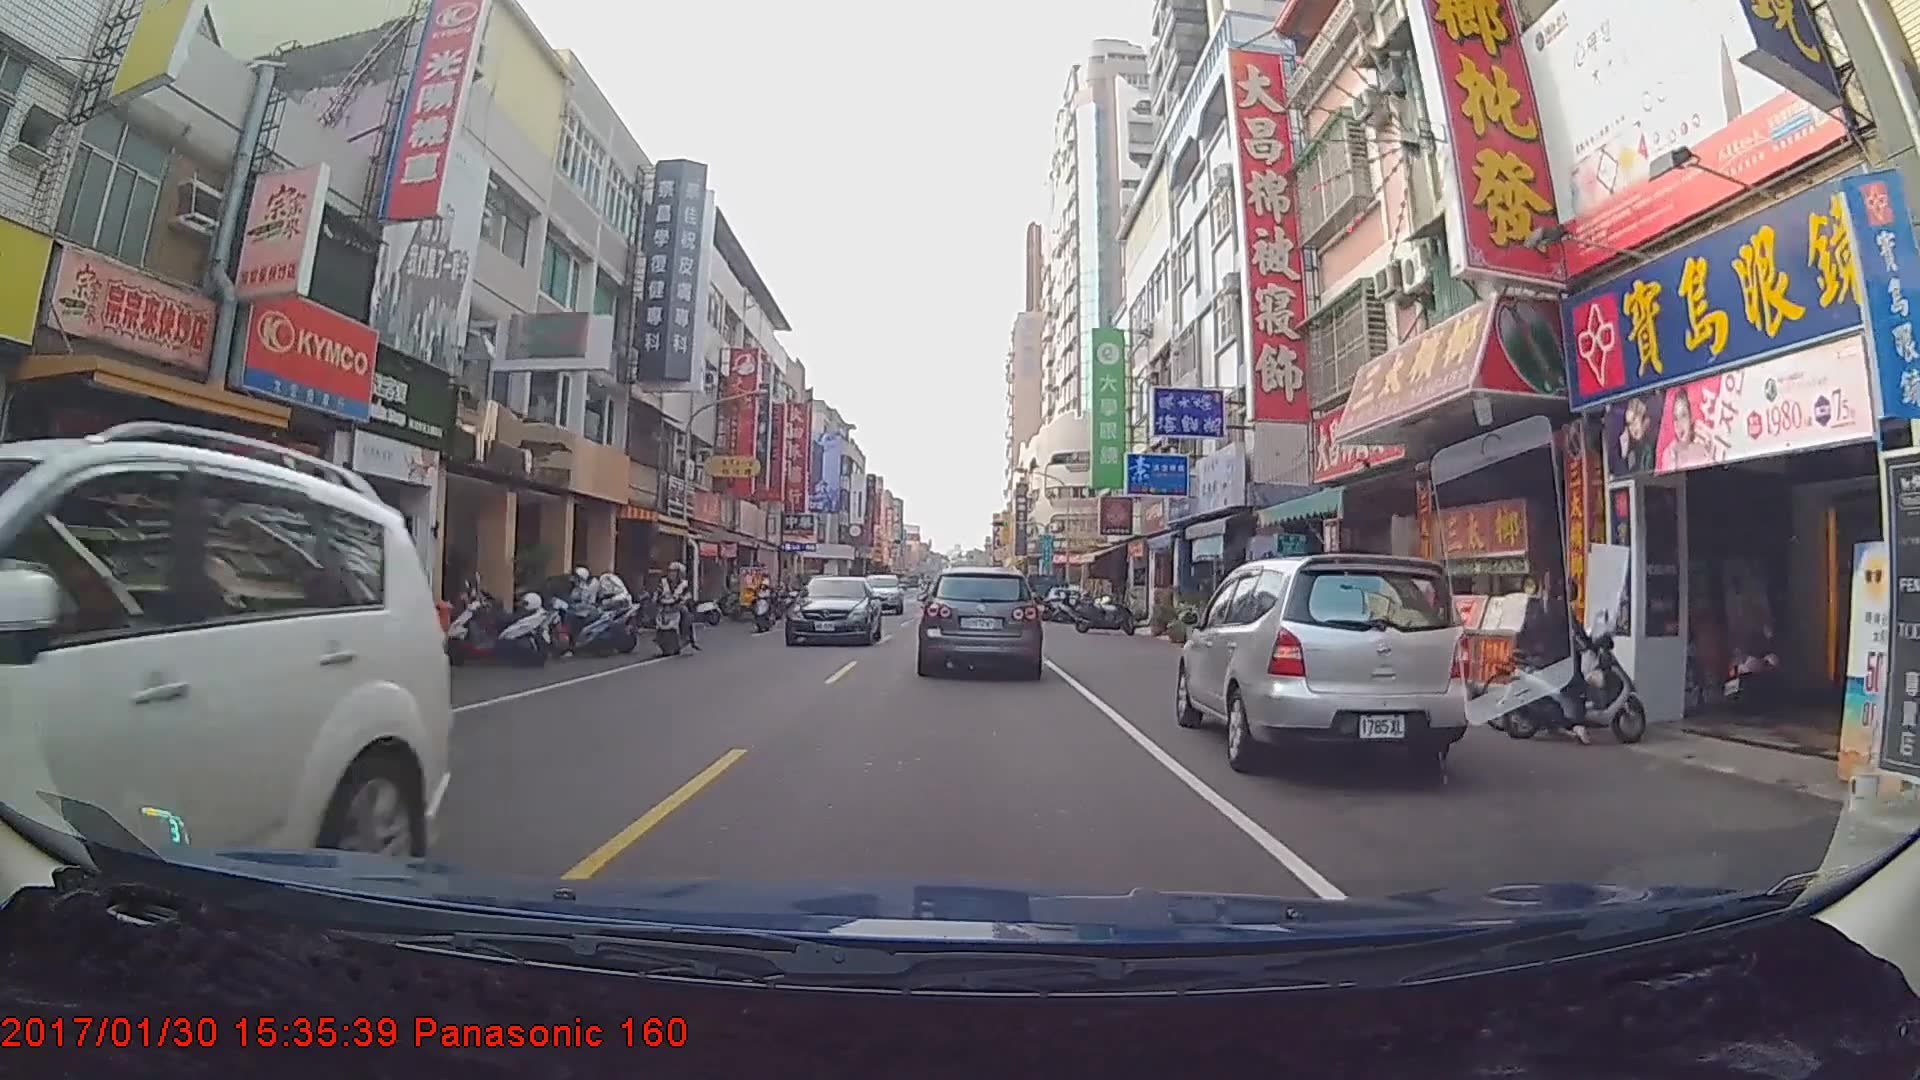rider: (1495, 573, 1656, 754), (643, 557, 708, 657), (751, 577, 780, 630)
vehicle: (0, 431, 449, 1016), (1174, 555, 1468, 772), (919, 567, 1039, 675), (784, 574, 882, 647), (854, 572, 903, 613)
